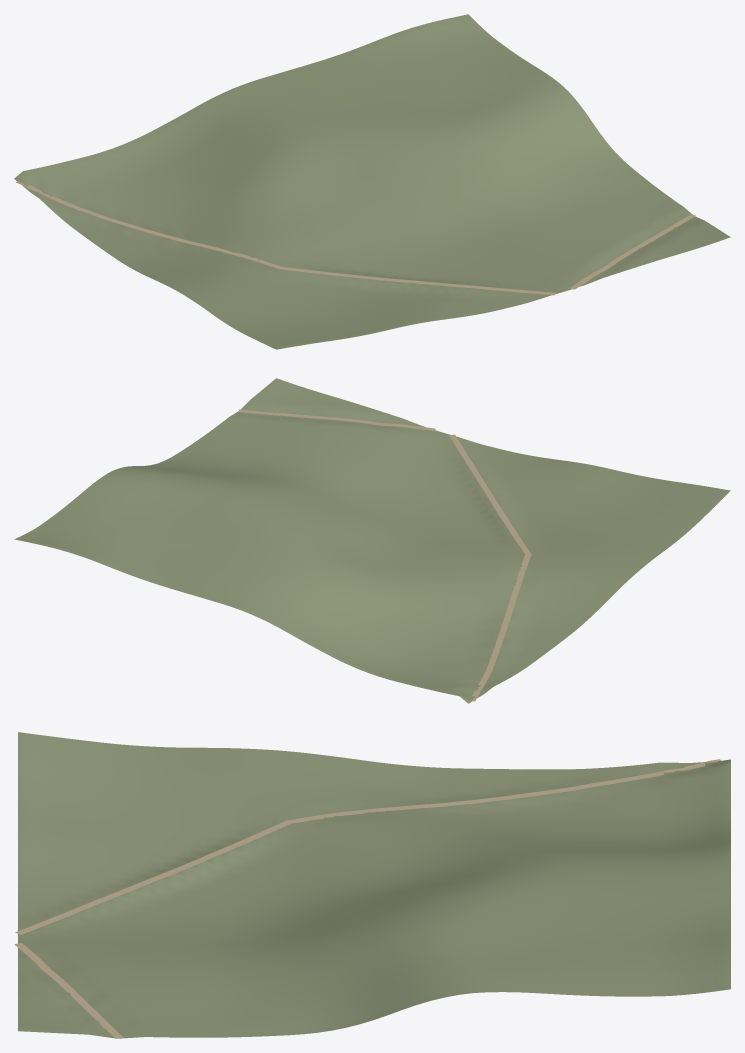
3 renders of one model, top to bottom at view 1: azimuth 30°, elevation 25°; view 2: azimuth 150°, elevation 25°; view 3: azimuth 270°, elevation 25°, orthographic. The views are drawn at different scales.
Visible parts, largest first — view 1: ground, path; view 2: ground, path; view 3: ground, path.
Boxes of the visible parts, x1,y1,x2,y2 form: ground: [14, 14, 730, 349]; path: [16, 181, 695, 295]; ground: [14, 378, 730, 703]; path: [238, 409, 531, 701]; ground: [18, 732, 730, 1038]; path: [14, 759, 720, 1038].
Size of the model in its own units: 252 by 31.98 by 251.
